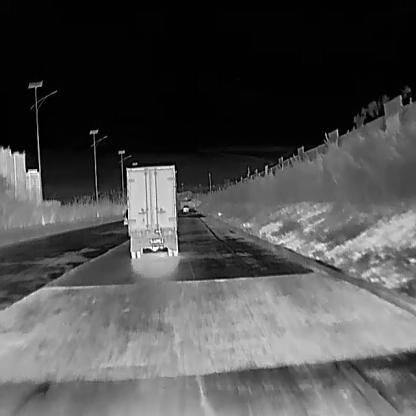car: (125, 163, 179, 258), (182, 203, 189, 211)
